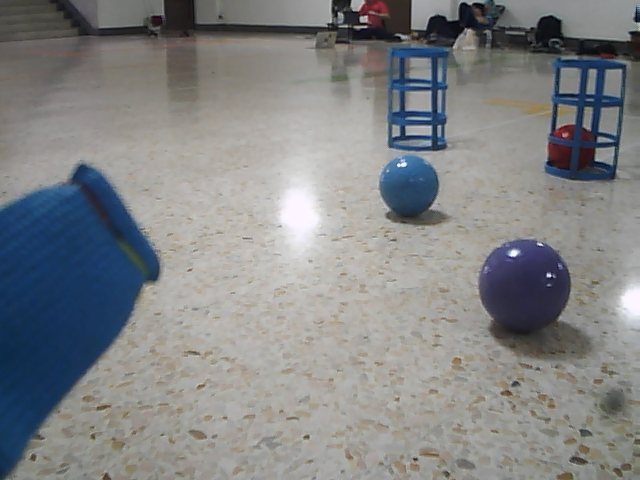Blue ball: (377, 153, 441, 218)
Cyro: (543, 57, 630, 185), (383, 42, 453, 153)
Purple ball: (477, 238, 574, 333)
Red ball: (546, 123, 597, 172)
